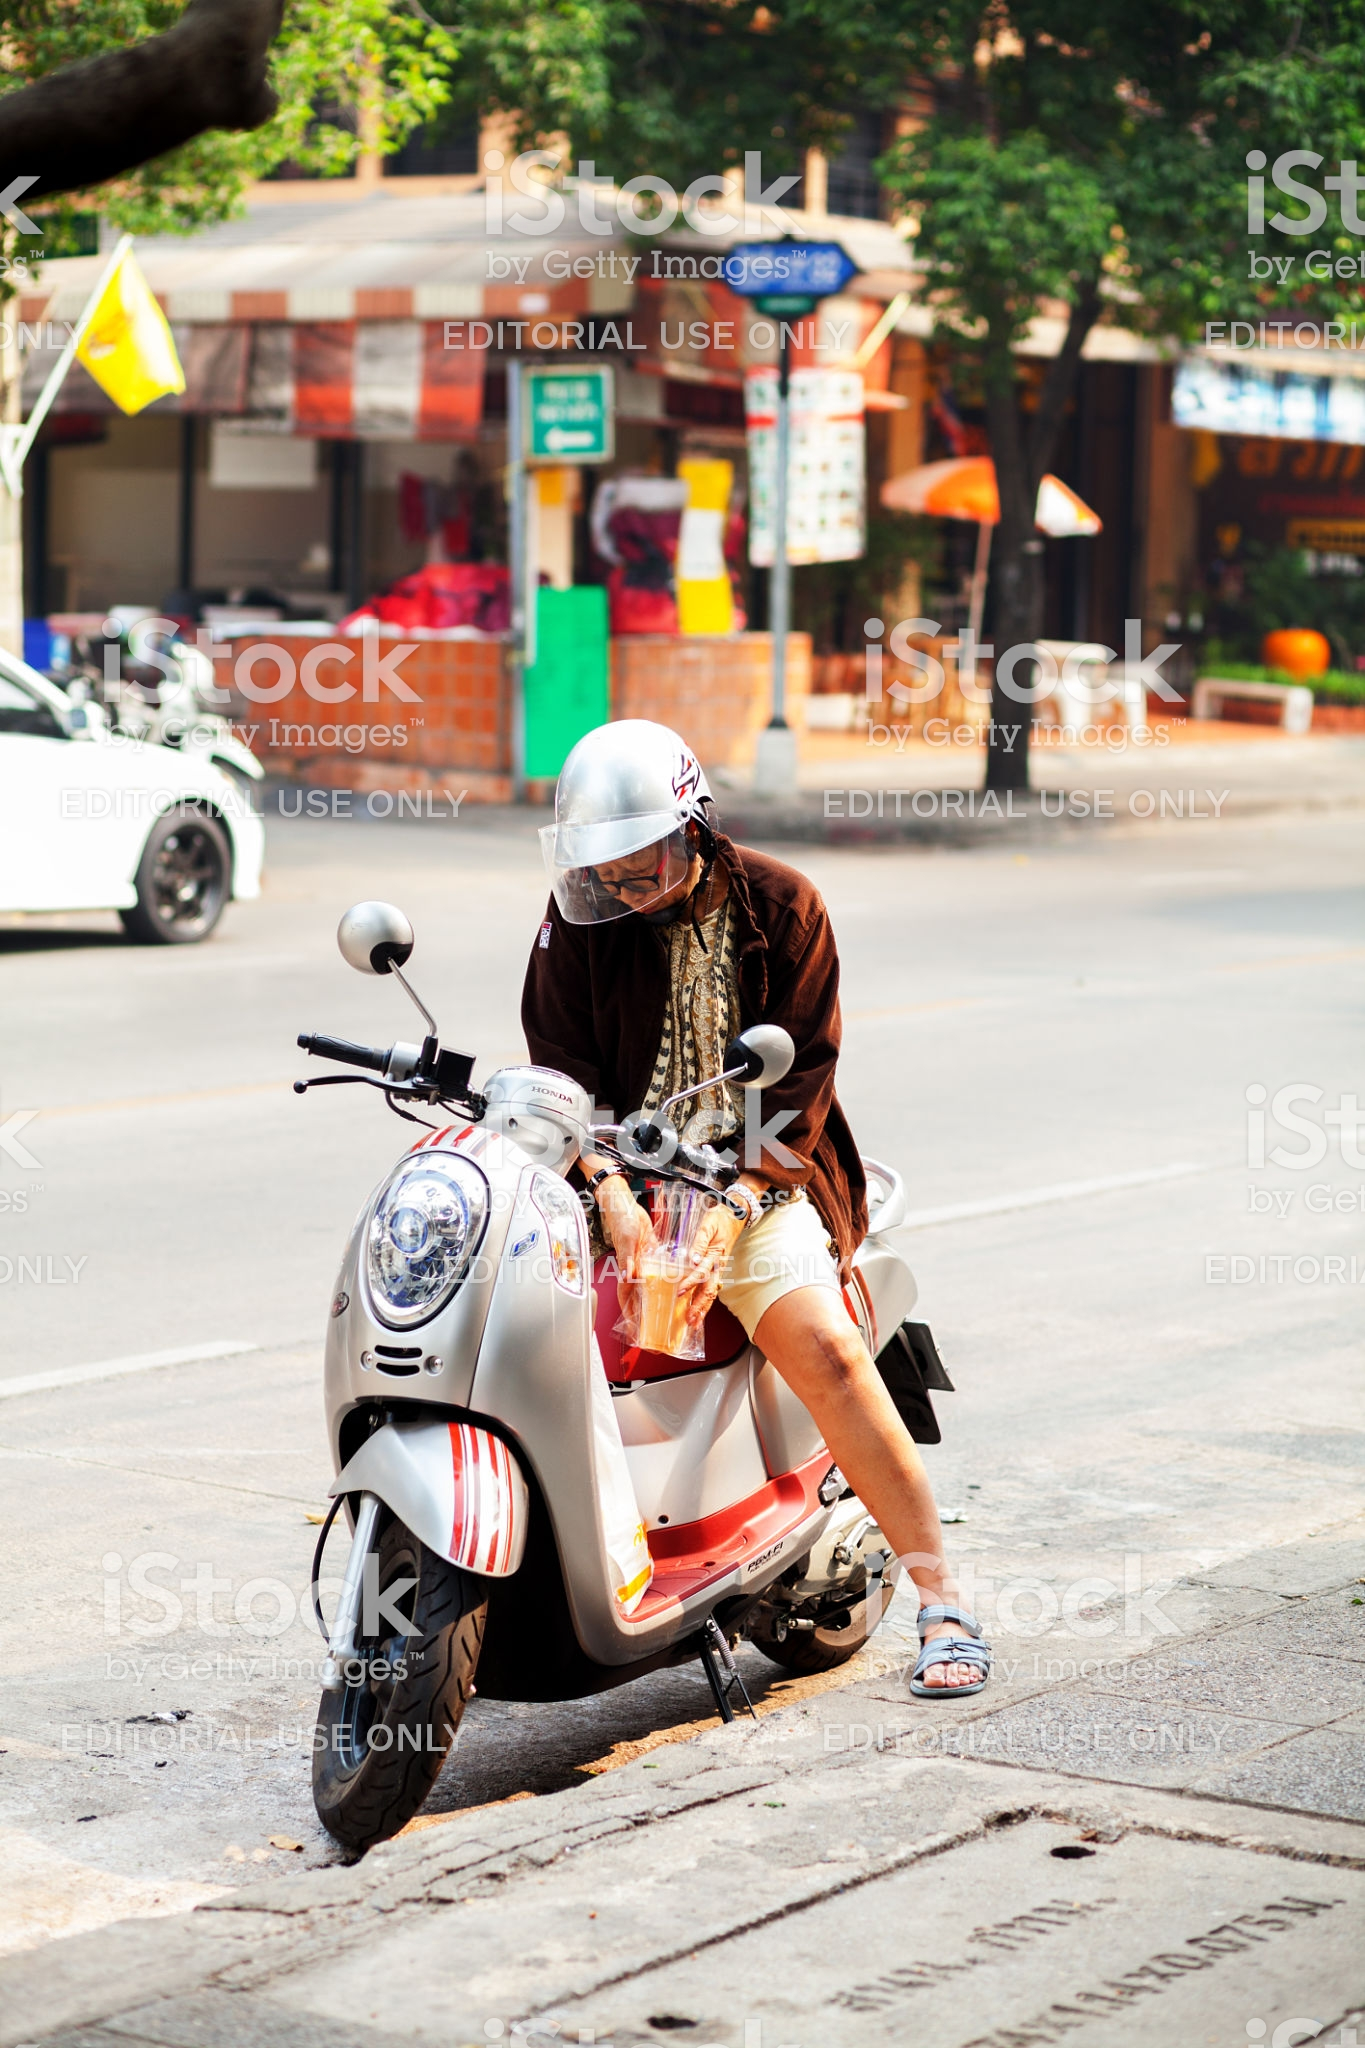helmet: (567, 713, 731, 863)
